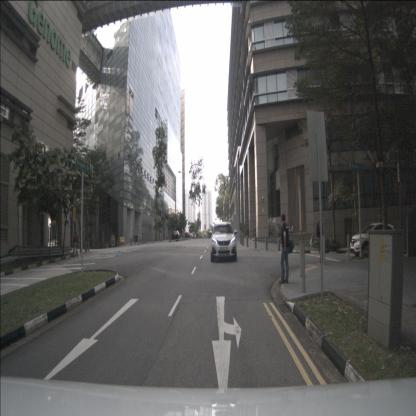human-pedestrian-adult: (278, 213, 295, 284), (316, 213, 326, 263), (74, 231, 78, 258)
vehicle-car: (350, 223, 395, 258), (210, 221, 237, 262), (172, 230, 180, 240)
